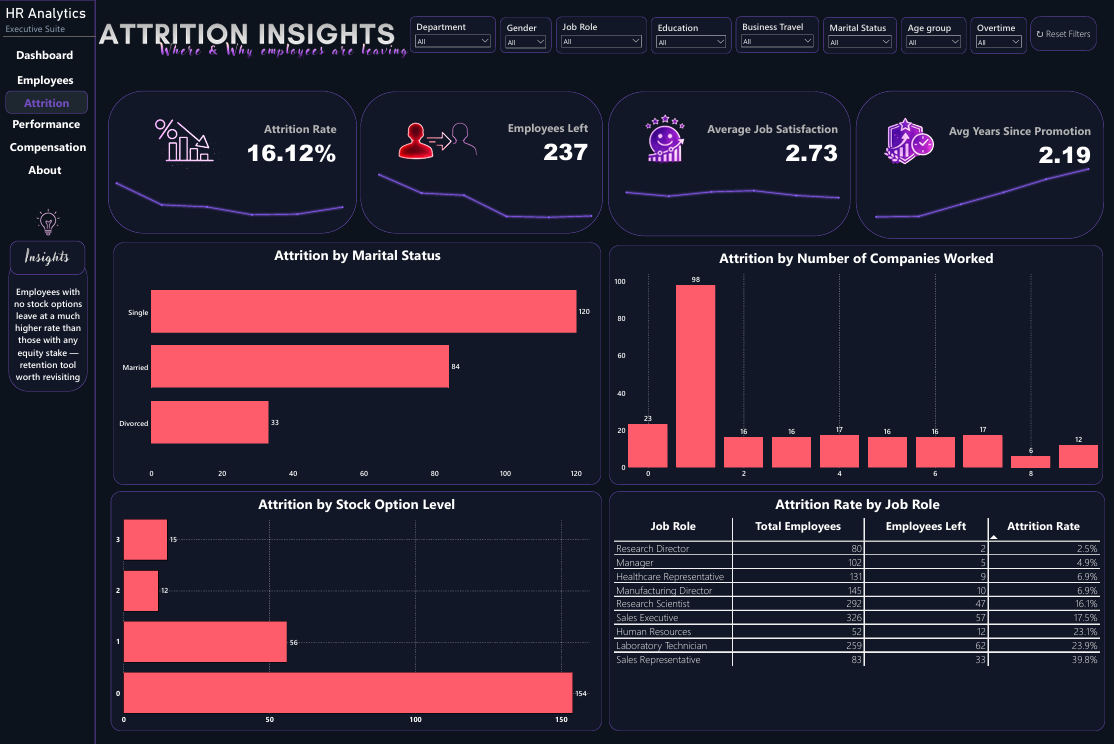

The dashboard page shown, as its layout file describes it:
{"tool":"powerbi","page":{"name":"Attrition","canvas":[3300,2200],"ordinal":2},"visuals":[{"type":"group","id":"g1","title":"Group 2","box":[0,0,3300,2200],"z":0},{"type":"shape","box":[0,0,284,2200],"z":500,"group":"g1"},{"type":"actionButton","title":"↻ Reset Filters","box":[3047.5,47.5,195,102.5],"z":1000},{"type":"shape","box":[2532.4,267.6,732.4,437.8],"z":1000,"group":"g1"},{"type":"image","box":[286,42,928,150],"z":2000},{"type":"shape","box":[1800,270.3,716.2,427],"z":2000,"group":"g1"},{"type":"shape","box":[1067.6,270.3,716.2,418.9],"z":3000,"group":"g1"},{"type":"shape","box":[321.6,267.6,735.1,421.6],"z":4000,"group":"g1"},{"type":"image","box":[67.1,662.9,150,192.9],"z":4001},{"type":"cardVisual","fields":{"Data":["Measures (2).Attrition Rate"]},"box":[351.4,224.3,675.7,405.4],"z":5000,"group":"g1"},{"type":"cardVisual","fields":{"Data":["Measures (2).Employees Left"]},"box":[1270.3,224.3,500,400],"z":6000,"group":"g1"},{"type":"textbox","title":"HR Analytics","box":[13.9,13.9,272.2,136.1],"z":7000,"group":"g1"},{"type":"cardVisual","fields":{"Data":["Measures (2).Average Job Satisfaction"]},"box":[1929.7,202.7,578.4,445.9],"z":8000,"group":"g1"},{"type":"actionButton","box":[13,130,243,62],"z":9000,"group":"g1"},{"type":"cardVisual","fields":{"Data":["Measures (2).Avg Years Since Promotion"]},"box":[2543.2,224.3,713.5,413.5],"z":10000,"group":"g1"},{"type":"actionButton","box":[19,268,243,67],"z":12000,"group":"g1"},{"type":"actionButton","box":[16.7,328.4,244.4,69.4],"z":13000,"group":"g1"},{"type":"actionButton","box":[16.7,392.3,255.6,77.8],"z":14000,"group":"g1"},{"type":"actionButton","box":[13.9,456.2,241.7,88.9],"z":15000,"group":"g1"},{"type":"clusteredBarChart","title":"Attrition by Marital Status","fields":{"Category":["HR.MaritalStatus"],"Y":["Measures (2).Employees Left"]},"box":[337.8,716.2,1440.5,716.2],"z":16000,"group":"g1"},{"type":"clusteredColumnChart","title":"Attrition by Number of Companies Worked","fields":{"Category":["HR.NumCompaniesWorked"],"Y":["Measures (2).Employees Left"]},"box":[1802.7,724.3,1459.5,708.1],"z":17000,"group":"g1"},{"type":"clusteredBarChart","title":"Attrition by Stock Option Level","fields":{"Category":["HR.StockOptionLevel"],"Y":["Measures (2).Employees Left"]},"box":[329.7,1451.4,1451.4,708.1],"z":18000,"group":"g1"},{"type":"slicer","fields":{"Values":["HR.BusinessTravel"]},"box":[2177.2,48.3,244.4,107.9],"z":19000,"group":"g3"},{"type":"slicer","fields":{"Values":["HR.Gender"]},"box":[1481.4,50.8,150.8,104.8],"z":21000,"group":"g3"},{"type":"slicer","fields":{"Values":["HR.JobRole"]},"box":[1645.6,49.2,268.3,107.9],"z":22000,"group":"g3"},{"type":"slicer","fields":{"Values":["HR.EducationField"]},"box":[1927.3,49.9,236.5,107.9],"z":23000,"group":"g3"},{"type":"slicer","fields":{"Values":["HR.MaritalStatus"]},"box":[2435.1,49.9,217.5,107.9],"z":24000,"group":"g3"},{"type":"slicer","fields":{"Values":["HR.Age Group"]},"box":[2666,49.9,192.1,107.9],"z":25000,"group":"g3"},{"type":"slicer","fields":{"Values":["HR.OverTime"]},"box":[2871.4,49.9,165.1,109.5],"z":26000,"group":"g3"},{"type":"slicer","fields":{"Values":["HR.Department"]},"box":[1214,48,254,108],"z":26500,"group":"g3"},{"type":"shape","box":[27.8,761.1,233.3,394.4],"z":27000,"group":"g1"},{"type":"textbox","box":[36.1,836.1,216.7,319.4],"z":28000,"group":"g1"},{"type":"group","id":"g2","title":"Group 1","box":[32.4,710.8,221.6,100],"z":29000,"group":"g1"},{"type":"image","box":[2.8,530.6,283.3,266.7],"z":30000,"group":"g1"},{"type":"deneb7E15AEF80B9E4D4F8E12924291ECE89A","fields":{"dataset":["HR.TenureBucket","Measures (2).Attrition Rate"]},"box":[270.3,516.2,829.7,162.2],"z":32000,"group":"g1"},{"type":"deneb7E15AEF80B9E4D4F8E12924291ECE89A","fields":{"dataset":["HR.TenureBucket","Measures (2).Employees Left"]},"box":[1050,491.7,780.6,180.6],"z":33000,"group":"g1"},{"type":"deneb7E15AEF80B9E4D4F8E12924291ECE89A","fields":{"dataset":["HR.TenureBucket","Measures (2).Average Job Satisfaction"]},"box":[1780.6,530.6,780.6,366.7],"z":34000,"group":"g1"},{"type":"deneb7E15AEF80B9E4D4F8E12924291ECE89A","fields":{"dataset":["HR.TenureBucket","Measures (2).Avg Years Since Promotion"]},"box":[2519.4,472.2,780.6,200],"z":35000,"group":"g1"},{"type":"image","box":[322.2,191.7,450,477.8],"z":37000,"group":"g1"},{"type":"image","box":[972.2,227.8,638.9,394.4],"z":38000,"group":"g1"},{"type":"tableEx","title":"Attrition Rate by Job Role","fields":{"Values":["HR.JobRole","Measures (2).Total Employees","Measures (2).Employees Left","Measures (2).Attrition Rate"]},"box":[1802.7,1451.4,1464.9,708.1],"z":39000,"group":"g1"},{"type":"image","box":[2336.1,241.7,683.3,436.1],"z":40000,"group":"g1"},{"type":"image","box":[1611.1,236.1,713.9,422.2],"z":41000,"group":"g1"},{"type":"actionButton","box":[15,201,243,69],"z":41500,"group":"g1"},{"type":"group","id":"g3","title":"Group 3","box":[1214,48,1822.5,111.4],"z":42000,"group":"g1"},{"type":"shape","box":[32.4,710.8,221.6,100],"z":59000,"group":"g2"}]}

Visuals, with their boxes on the page's 3300x2200 design canvas (x1, y1, x2, y2). These are canvas units, not pixel positions in the 1114x744 screenshot, which may show the page scaled, cropped or inside an application window:
"Group 2" group: rect(0, 0, 3300, 2200)
shape: rect(0, 0, 284, 2200)
"↻ Reset Filters" actionButton: rect(3048, 48, 3242, 150)
shape: rect(2532, 268, 3265, 705)
image: rect(286, 42, 1214, 192)
shape: rect(1800, 270, 2516, 697)
shape: rect(1068, 270, 1784, 689)
shape: rect(322, 268, 1057, 689)
image: rect(67, 663, 217, 856)
cardVisual - Measures (2).Attrition Rate: rect(351, 224, 1027, 630)
cardVisual - Measures (2).Employees Left: rect(1270, 224, 1770, 624)
"HR Analytics" textbox: rect(14, 14, 286, 150)
cardVisual - Measures (2).Average Job Satisfaction: rect(1930, 203, 2508, 649)
actionButton: rect(13, 130, 256, 192)
cardVisual - Measures (2).Avg Years Since Promotion: rect(2543, 224, 3257, 638)
actionButton: rect(19, 268, 262, 335)
actionButton: rect(17, 328, 261, 398)
actionButton: rect(17, 392, 272, 470)
actionButton: rect(14, 456, 256, 545)
"Attrition by Marital Status" clusteredBarChart: rect(338, 716, 1778, 1432)
"Attrition by Number of Companies Worked" clusteredColumnChart: rect(1803, 724, 3262, 1432)
"Attrition by Stock Option Level" clusteredBarChart: rect(330, 1451, 1781, 2160)
slicer - HR.BusinessTravel: rect(2177, 48, 2422, 156)
slicer - HR.Gender: rect(1481, 51, 1632, 156)
slicer - HR.JobRole: rect(1646, 49, 1914, 157)
slicer - HR.EducationField: rect(1927, 50, 2164, 158)
slicer - HR.MaritalStatus: rect(2435, 50, 2653, 158)
slicer - HR.Age Group: rect(2666, 50, 2858, 158)
slicer - HR.OverTime: rect(2871, 50, 3036, 159)
slicer - HR.Department: rect(1214, 48, 1468, 156)
shape: rect(28, 761, 261, 1156)
textbox: rect(36, 836, 253, 1156)
"Group 1" group: rect(32, 711, 254, 811)
image: rect(3, 531, 286, 797)
deneb7E15AEF80B9E4D4F8E12924291ECE89A - HR.TenureBucket x Measures (2).Attrition Rate: rect(270, 516, 1100, 678)
deneb7E15AEF80B9E4D4F8E12924291ECE89A - HR.TenureBucket x Measures (2).Employees Left: rect(1050, 492, 1831, 672)
deneb7E15AEF80B9E4D4F8E12924291ECE89A - HR.TenureBucket x Measures (2).Average Job Satisfaction: rect(1781, 531, 2561, 897)
deneb7E15AEF80B9E4D4F8E12924291ECE89A - HR.TenureBucket x Measures (2).Avg Years Since Promotion: rect(2519, 472, 3300, 672)
image: rect(322, 192, 772, 670)
image: rect(972, 228, 1611, 622)
"Attrition Rate by Job Role" tableEx: rect(1803, 1451, 3268, 2160)
image: rect(2336, 242, 3019, 678)
image: rect(1611, 236, 2325, 658)
actionButton: rect(15, 201, 258, 270)
"Group 3" group: rect(1214, 48, 3036, 159)
shape: rect(32, 711, 254, 811)
